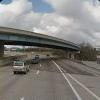Bridge: (2, 17, 84, 58)
